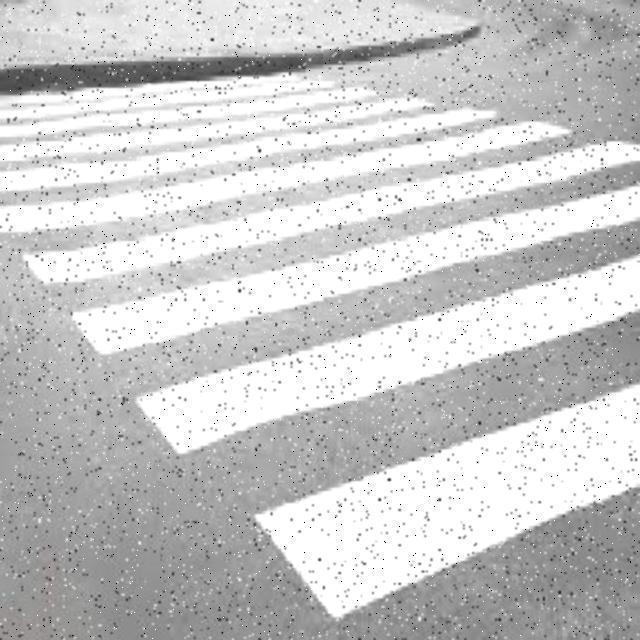crosswalk: (2, 69, 640, 625)
